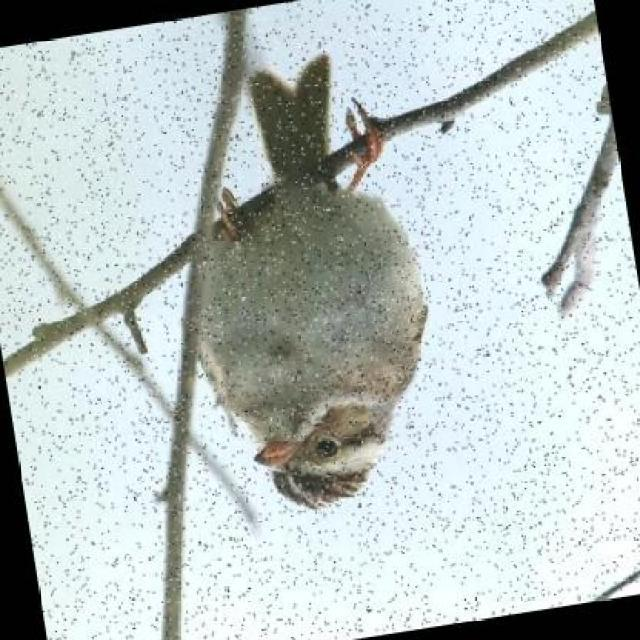Bird: (184, 50, 429, 514)
